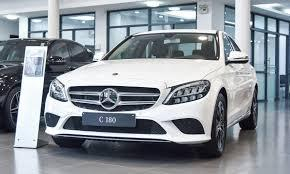mercedes: (99, 84, 121, 111)
